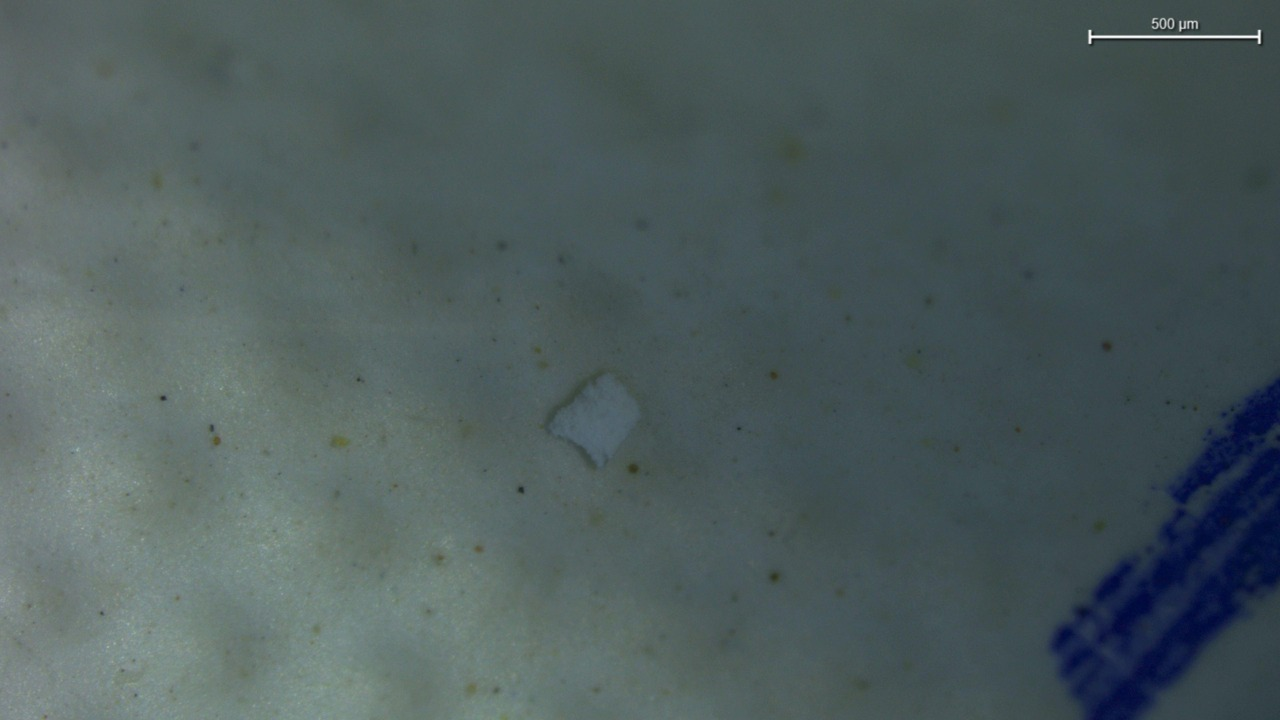microplastic_fragment: (547, 372, 640, 468)
